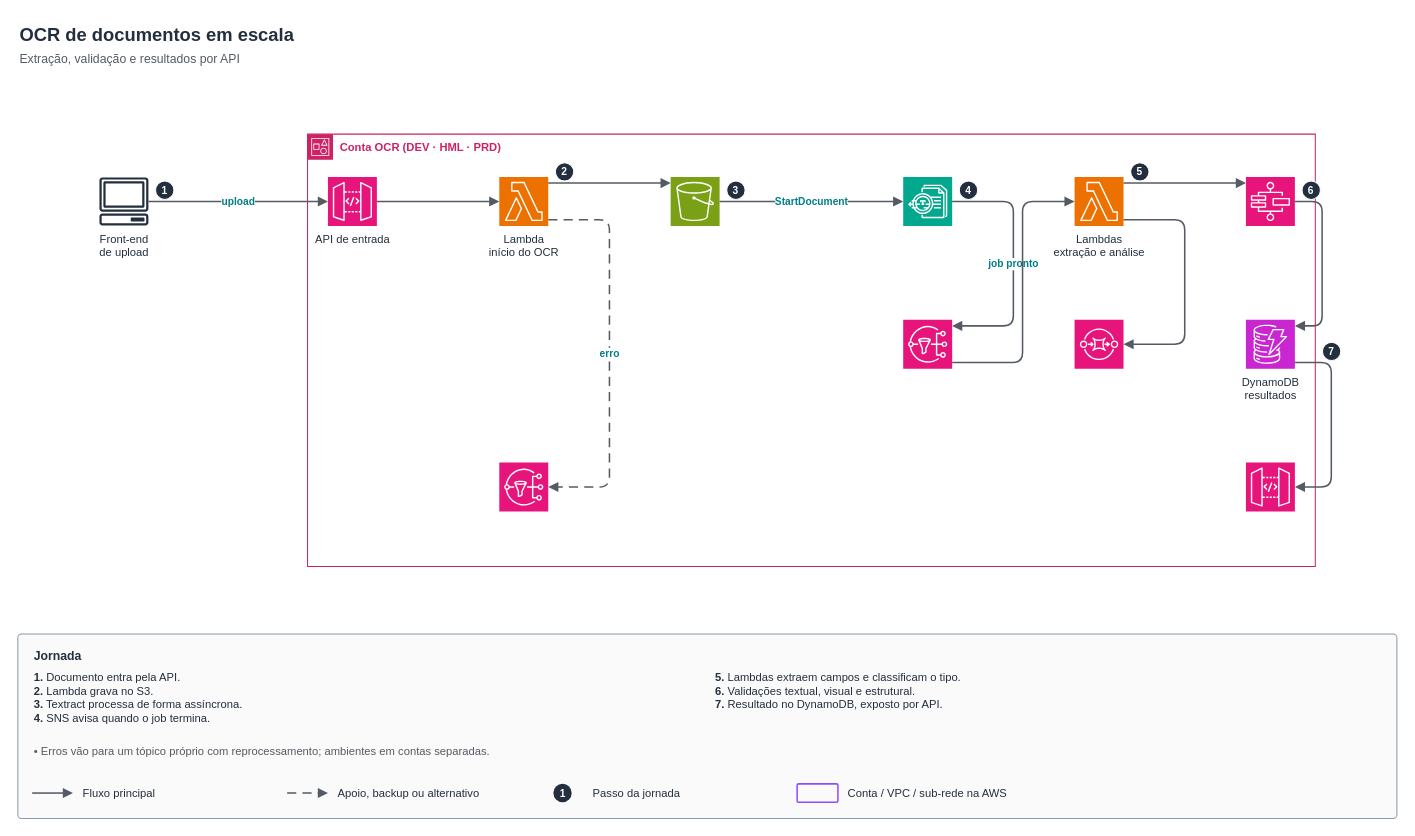
Image size: 1415x836. Some labels were removed from this diagram. Each missing label, with the centre of its shape:
API de resultados: (x=1270, y=487)
S3 documentos: (x=695, y=201)
SNS de erro + reprocesso: (x=523, y=487)
SNS resultado: (x=927, y=344)
SQS resultados: (x=1099, y=344)
Step Functions validações: (x=1270, y=201)
Textract: (x=927, y=201)
